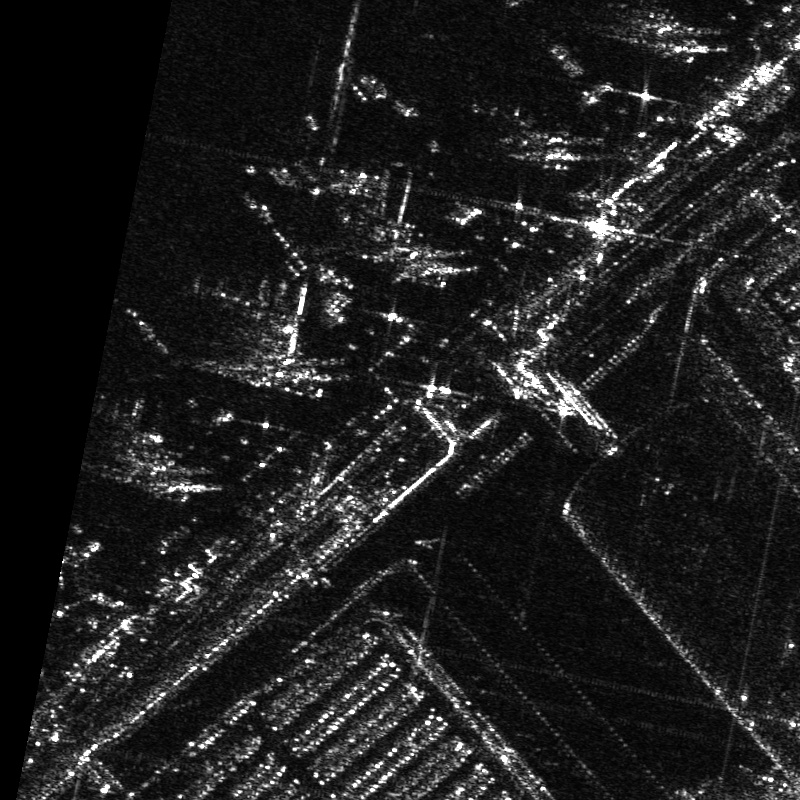Boeing737: (83, 389, 170, 469)
Boeing787: (193, 271, 309, 368), (324, 162, 422, 246)
